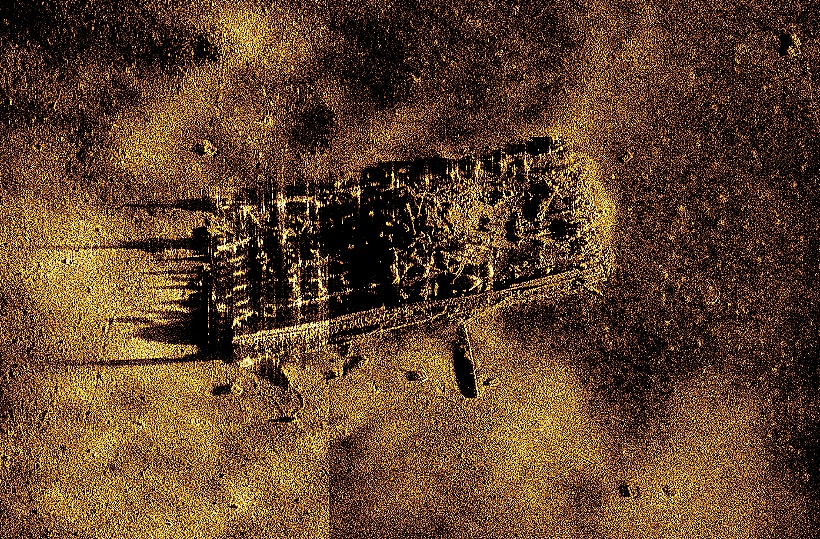ship: (202, 134, 612, 369)
